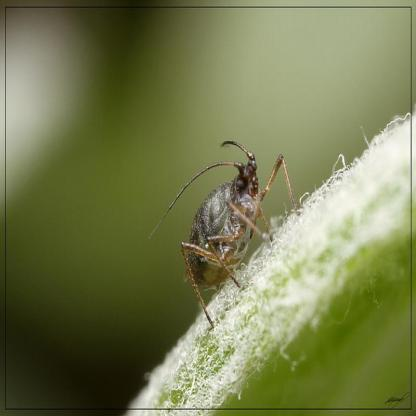aphid: (152, 142, 310, 318)
